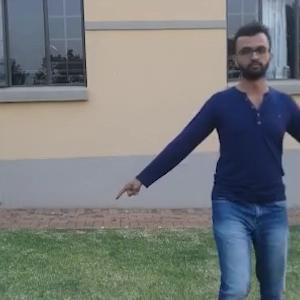land: (120, 44, 299, 299)
